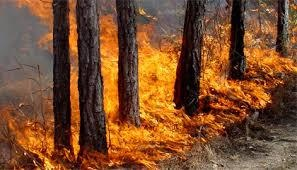fire: (13, 10, 241, 169)
